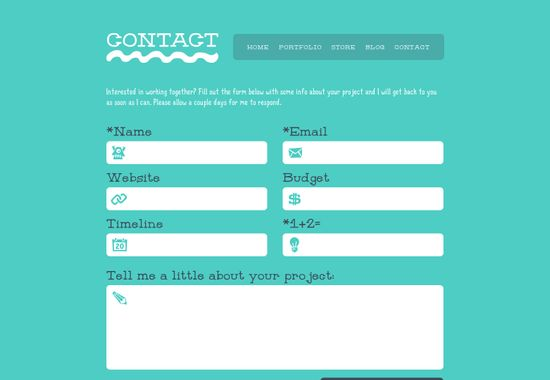_form_: (51, 1, 468, 380)
field: (105, 282, 443, 371), (103, 229, 270, 259), (105, 183, 270, 213), (280, 229, 444, 259), (282, 138, 445, 168), (103, 138, 270, 167), (282, 184, 445, 212)
field_with_label: (104, 269, 447, 373), (101, 125, 272, 170), (280, 125, 447, 170), (103, 172, 271, 216), (278, 218, 446, 261), (280, 172, 447, 214)
